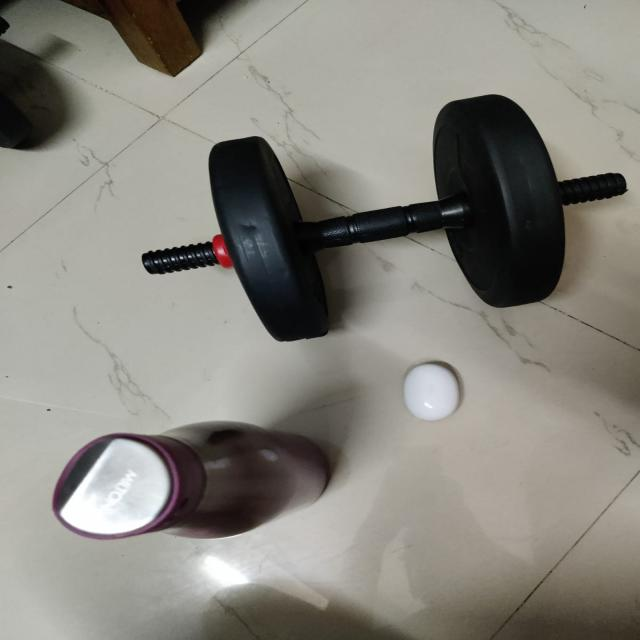metal: (133, 94, 632, 331), (51, 418, 349, 573)
plastic: (376, 348, 484, 435)
